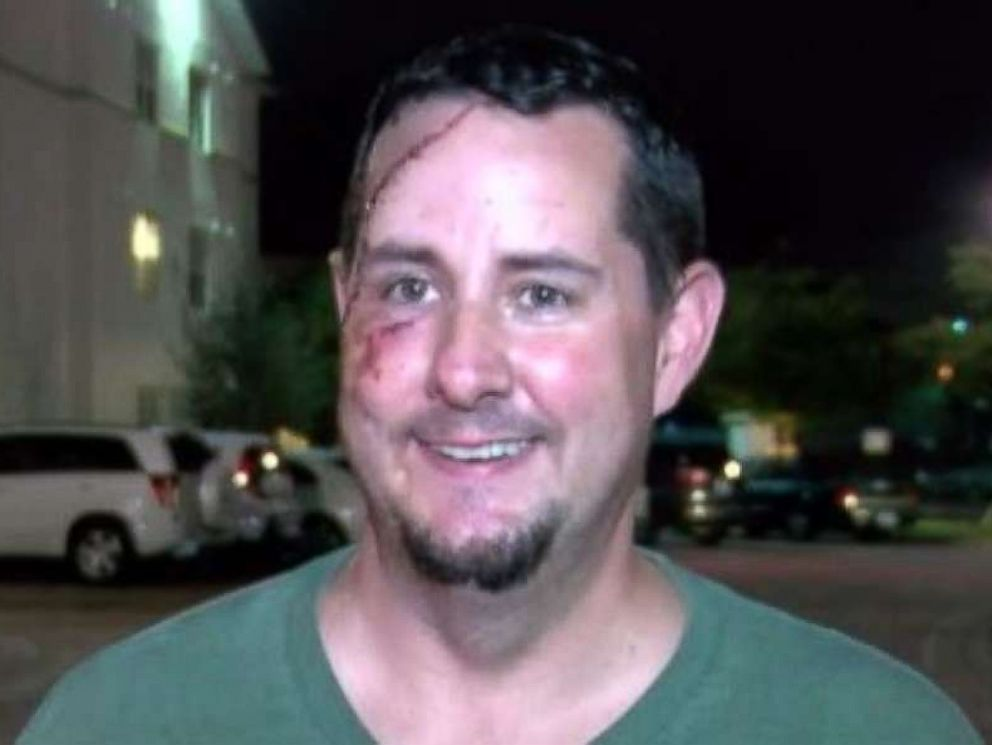happy: (342, 196, 646, 600)
